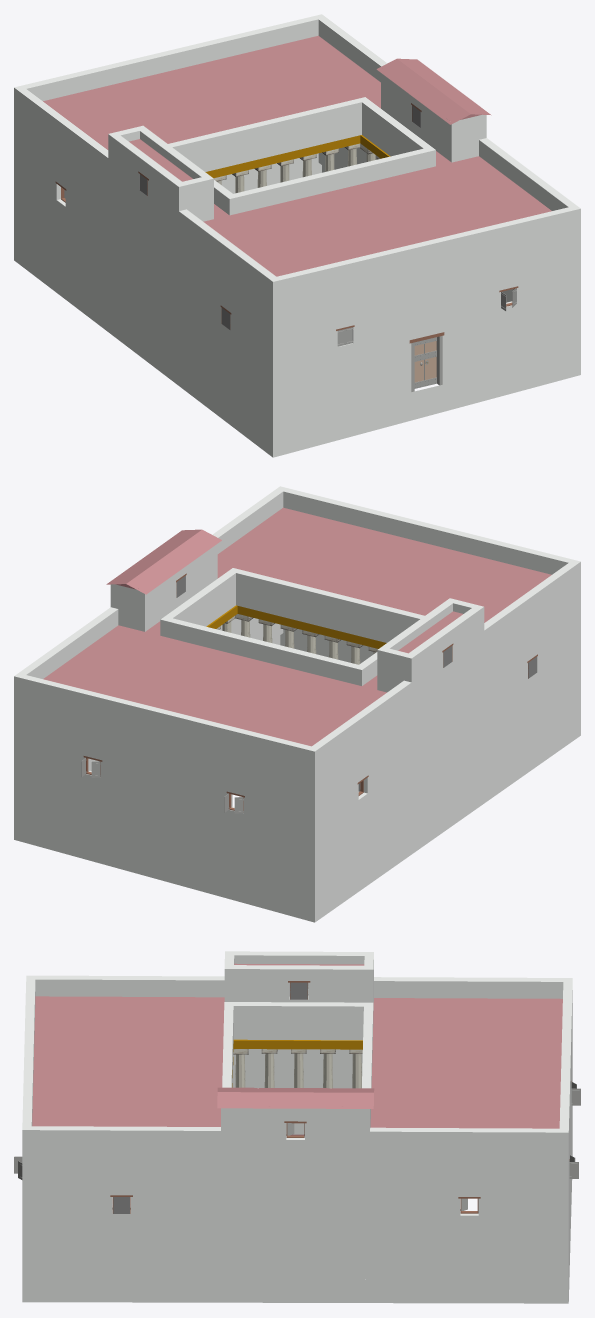
Rendered from LOD_Block_3_32.glb.
The picture shows the model from 3 angles, top to bottom: view 1: azimuth 30°, elevation 25°; view 2: azimuth 150°, elevation 25°; view 3: azimuth 270°, elevation 25°; orthographic projection. The views are drawn at different scales.
Parts seen in each view (by area): view 1: _1.4340; view 2: _1.4340; view 3: _1.4340.
Part boxes in pixels (x1,y1,x2,y2): _1.4340: [14, 14, 580, 457]; _1.4340: [14, 486, 580, 922]; _1.4340: [14, 951, 580, 1303].
Bounding box in the file's own units: 20 × 12.54 × 30.39.
Materials: 3 (3 with a texture image).
